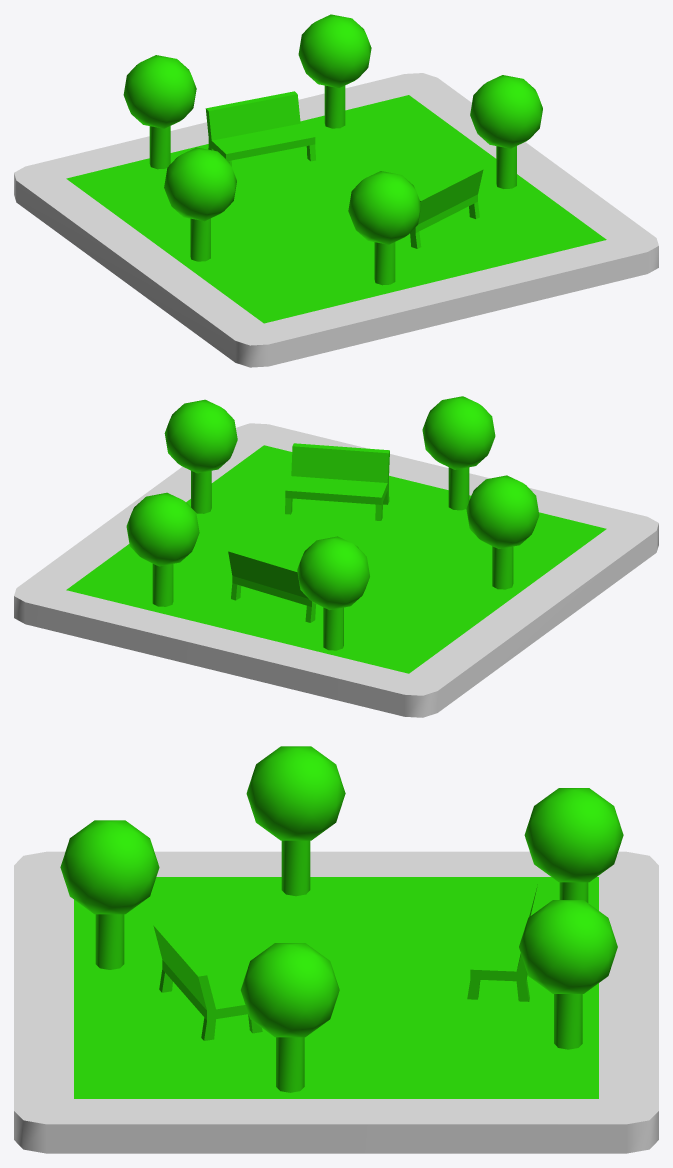
The model's file is Park_1x1.glb.
3 renders of one model, top to bottom at view 1: azimuth 30°, elevation 25°; view 2: azimuth 150°, elevation 25°; view 3: azimuth 270°, elevation 25°, orthographic. The views are drawn at different scales.
Visible parts, largest first — view 1: Park_1x1; view 2: Park_1x1; view 3: Park_1x1.
Part boxes in pixels (bbox=[...]): Park_1x1: bbox=[14, 14, 658, 367]; Park_1x1: bbox=[14, 396, 658, 717]; Park_1x1: bbox=[14, 746, 658, 1153].
Bounding box in the file's own units: 1 × 0.2923 × 1.
